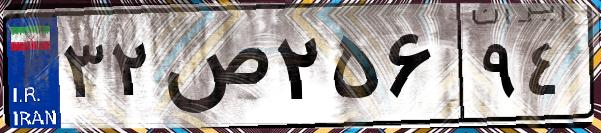2: (270, 28, 330, 110), (110, 28, 158, 98)
3: (57, 26, 110, 100)
4: (525, 38, 570, 115)
5: (330, 28, 385, 110)
6: (385, 28, 445, 110)
9: (475, 38, 525, 113)
ص: (158, 20, 270, 120)
